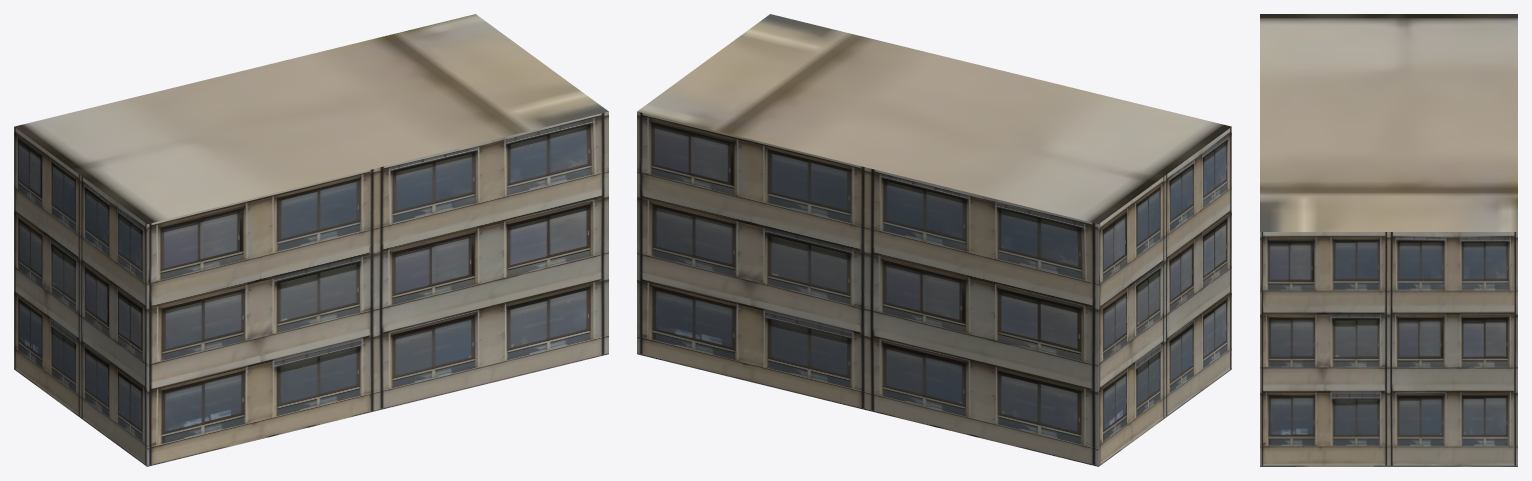
File: 2x1_sbuilding.dae
The picture shows the model from 3 angles, left to right: view 1: azimuth 30°, elevation 25°; view 2: azimuth 150°, elevation 25°; view 3: azimuth 270°, elevation 25°; orthographic projection. The views are drawn at different scales.
Parts seen in each view (by area): view 1: pCube1; view 2: pCube1; view 3: pCube1.
Part boxes in pixels (x1,y1,x2,y2): pCube1: (14, 14, 608, 466); pCube1: (637, 14, 1231, 466); pCube1: (1260, 14, 1517, 466).
Size of the model in its own units: 200 by 100 by 100.
